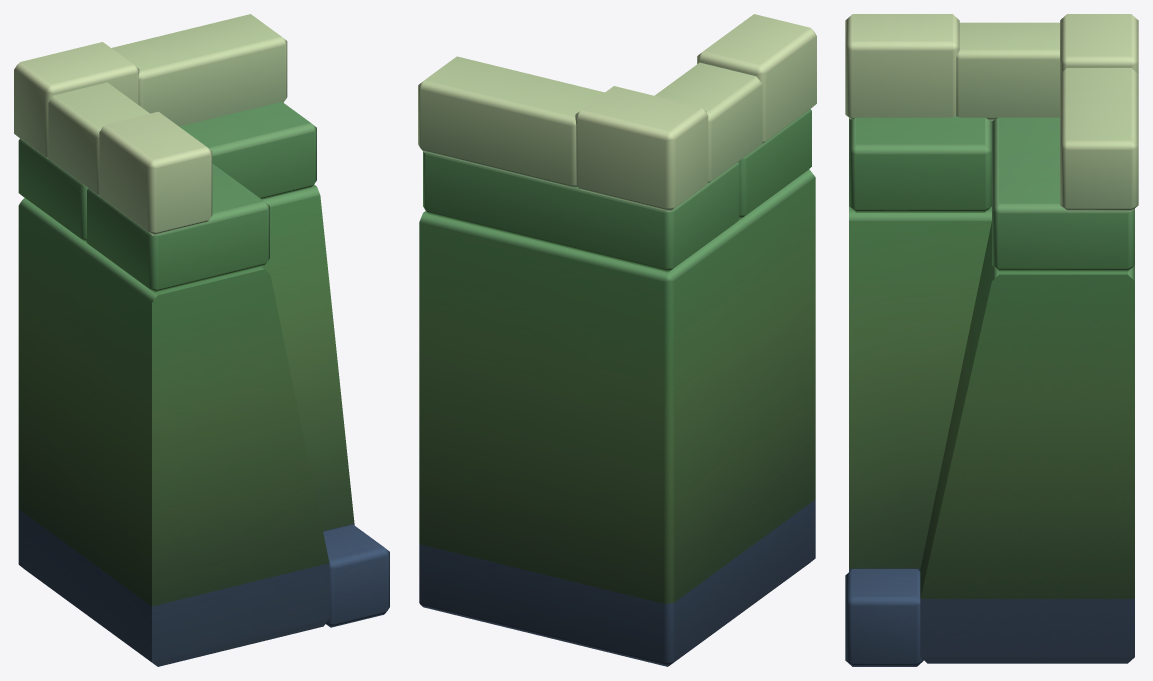
The model's file is wall_corner_concave.fbx.
3 views of the same model, side by side, from view 1: azimuth 30°, elevation 25°; view 2: azimuth 150°, elevation 25°; view 3: azimuth 270°, elevation 25° (orthographic). The views are drawn at different scales.
Parts seen in each view (by area): view 1: wall_corner_concave; view 2: wall_corner_concave; view 3: wall_corner_concave.
Part boxes in pixels (x1=…): wall_corner_concave: x1=14, y1=14, x2=389, y2=666; wall_corner_concave: x1=418, y1=14, x2=816, y2=666; wall_corner_concave: x1=845, y1=14, x2=1138, y2=666.
Size of the model in its own units: 205 by 413 by 205.
